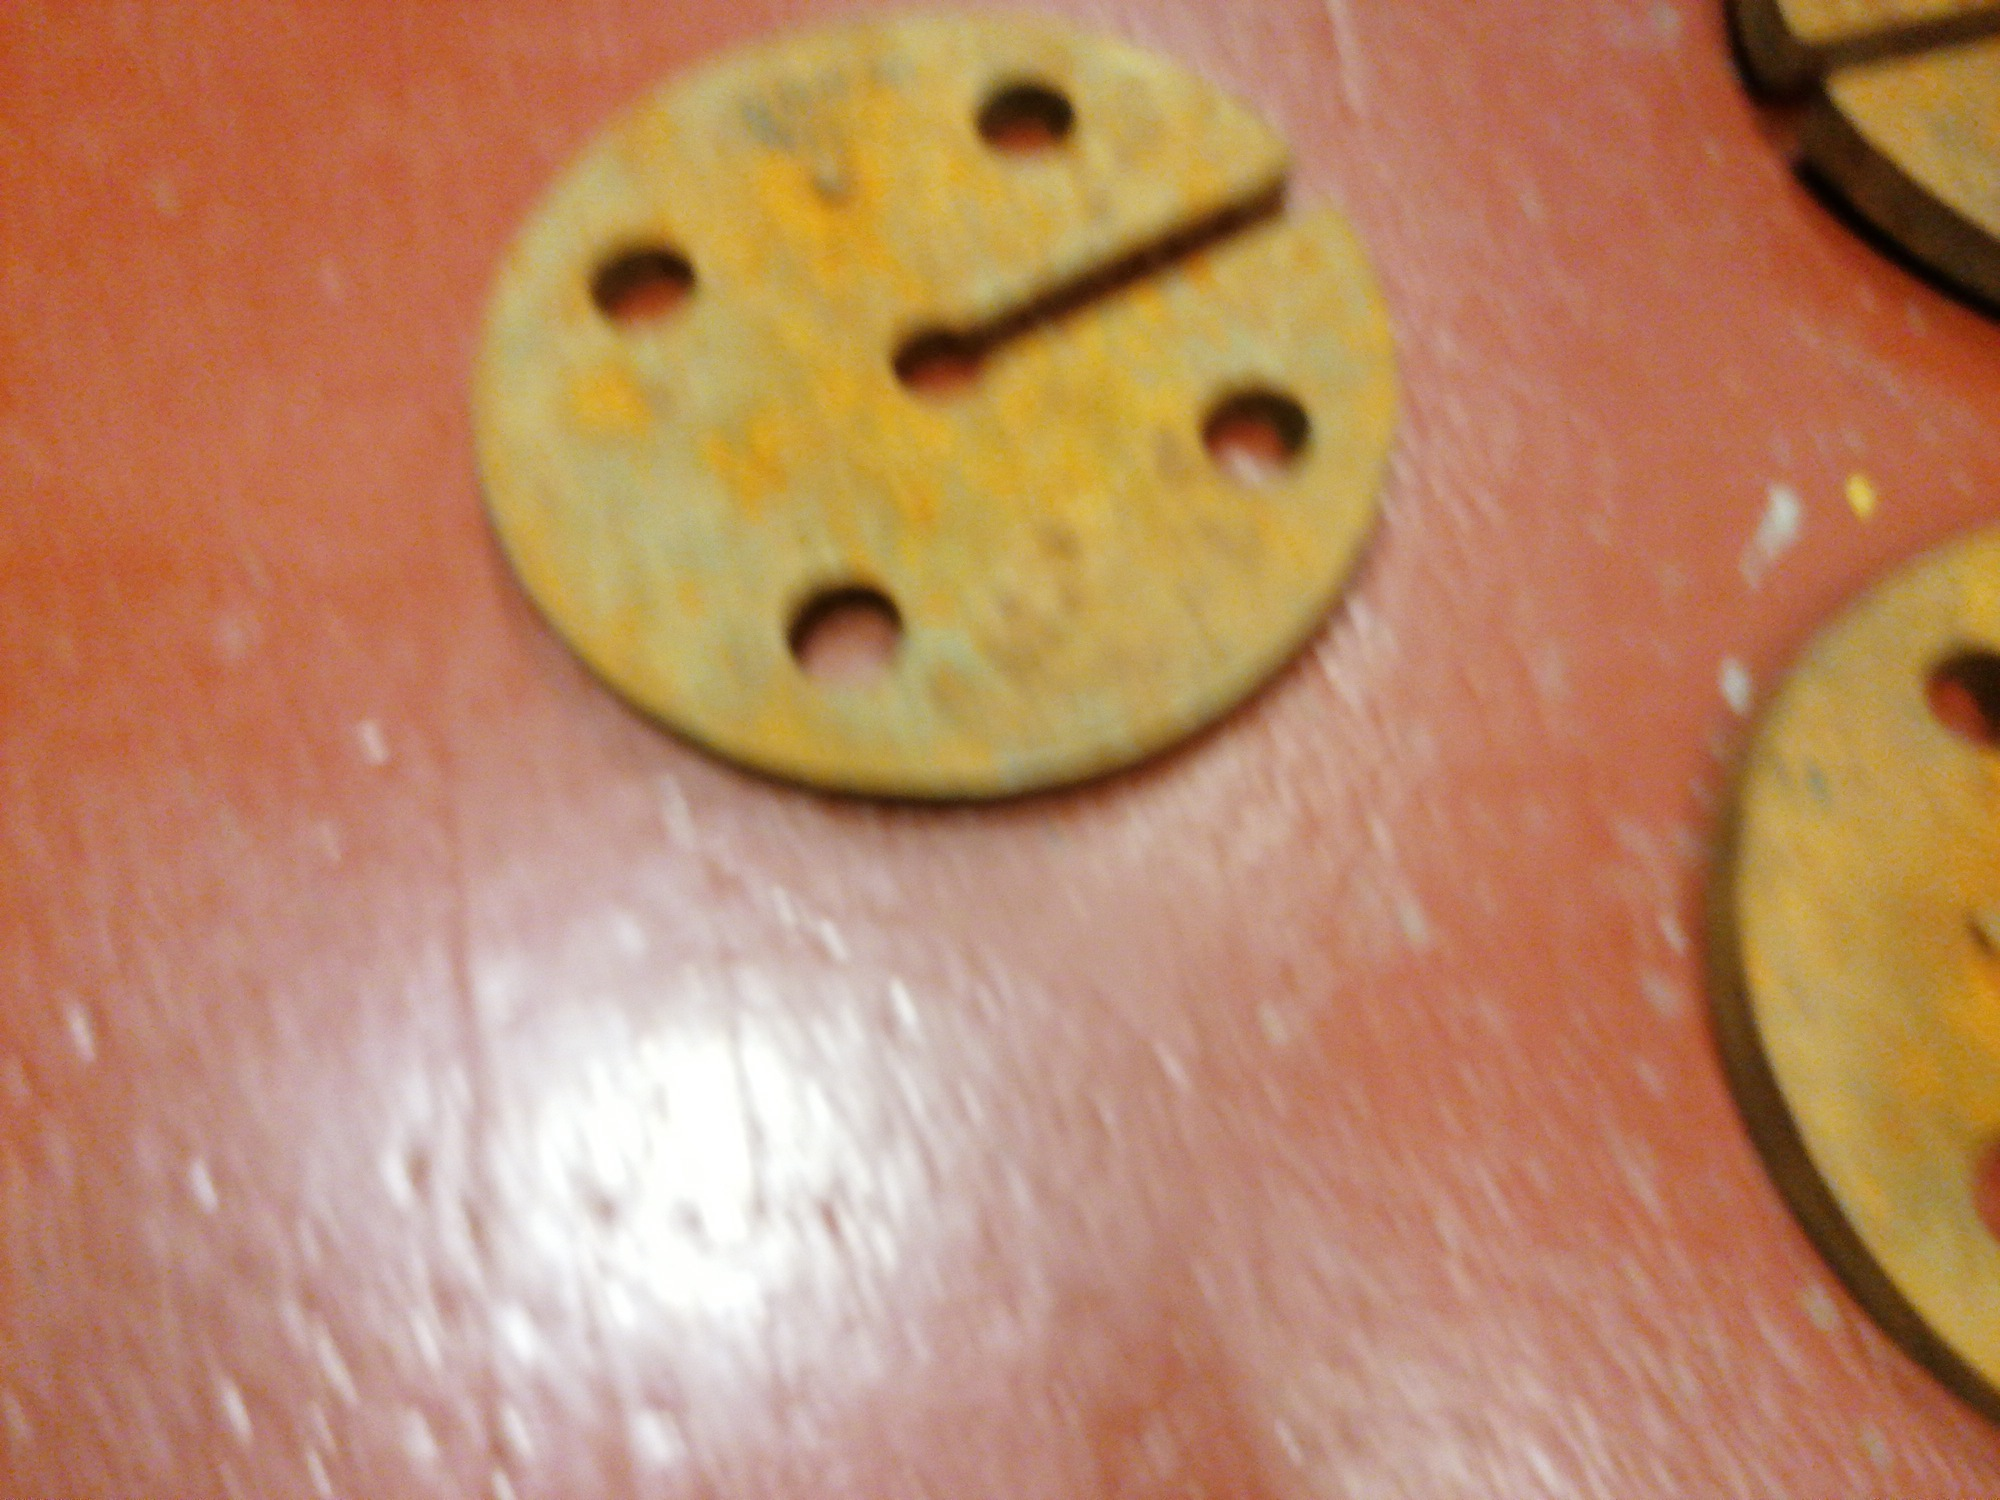flange: (465, 5, 1406, 810), (1691, 522, 2000, 1426), (1721, 2, 2000, 325)
